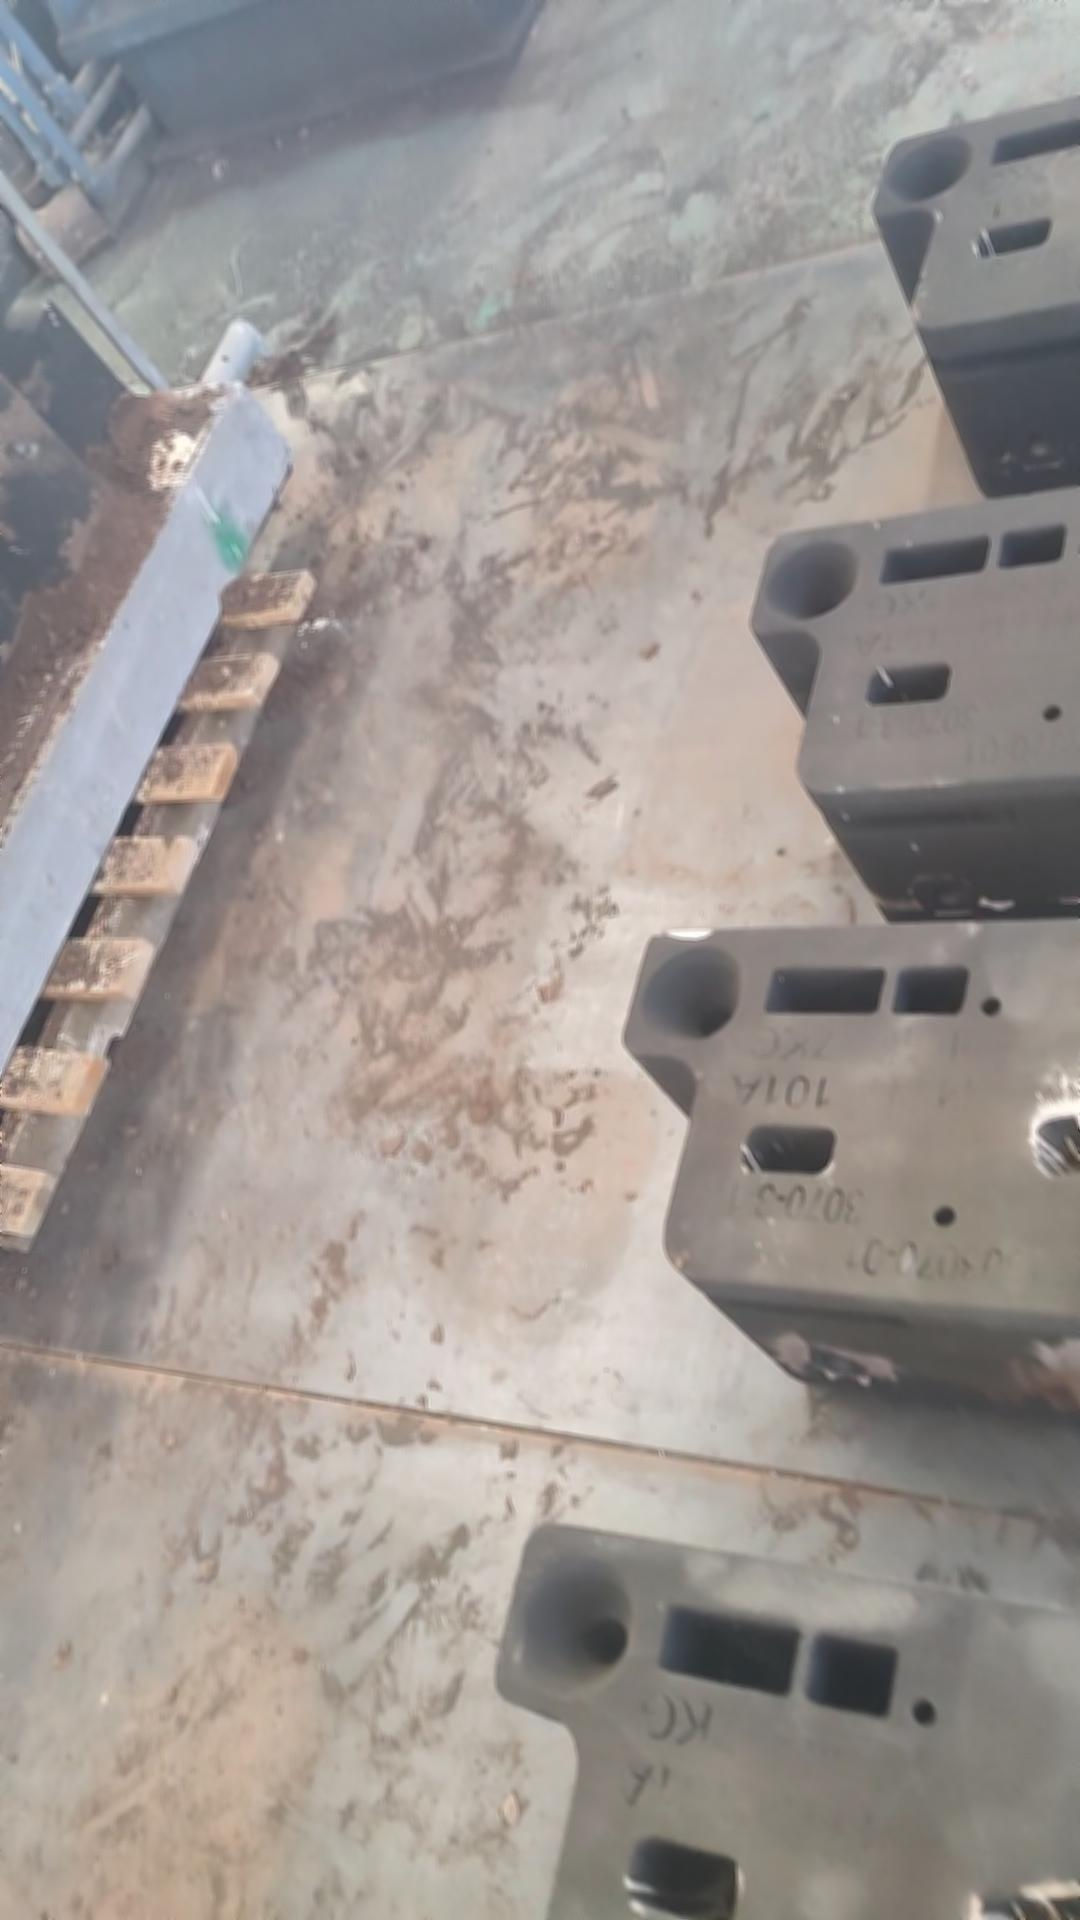pouring hole: (516, 1549, 636, 1702), (636, 943, 742, 1043), (764, 538, 862, 621), (876, 131, 968, 199)
